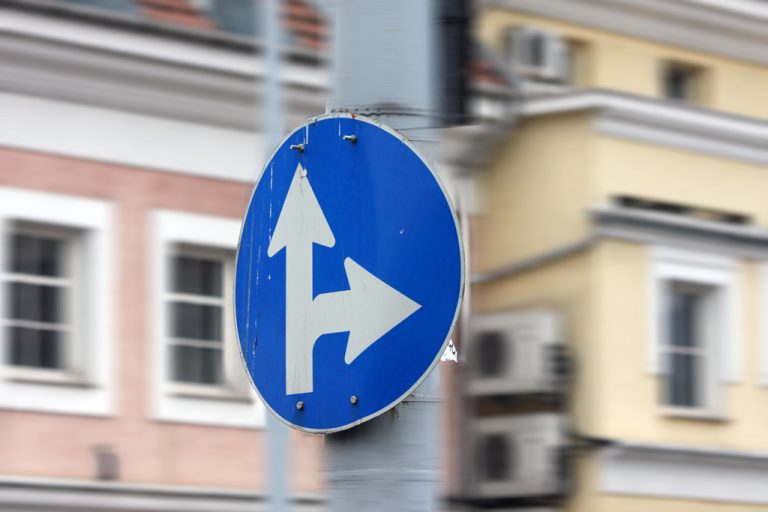ileri_veya_saga: (235, 112, 468, 434)
